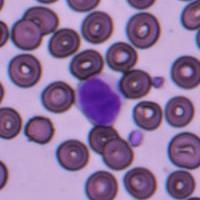M: (74, 72, 125, 127)
